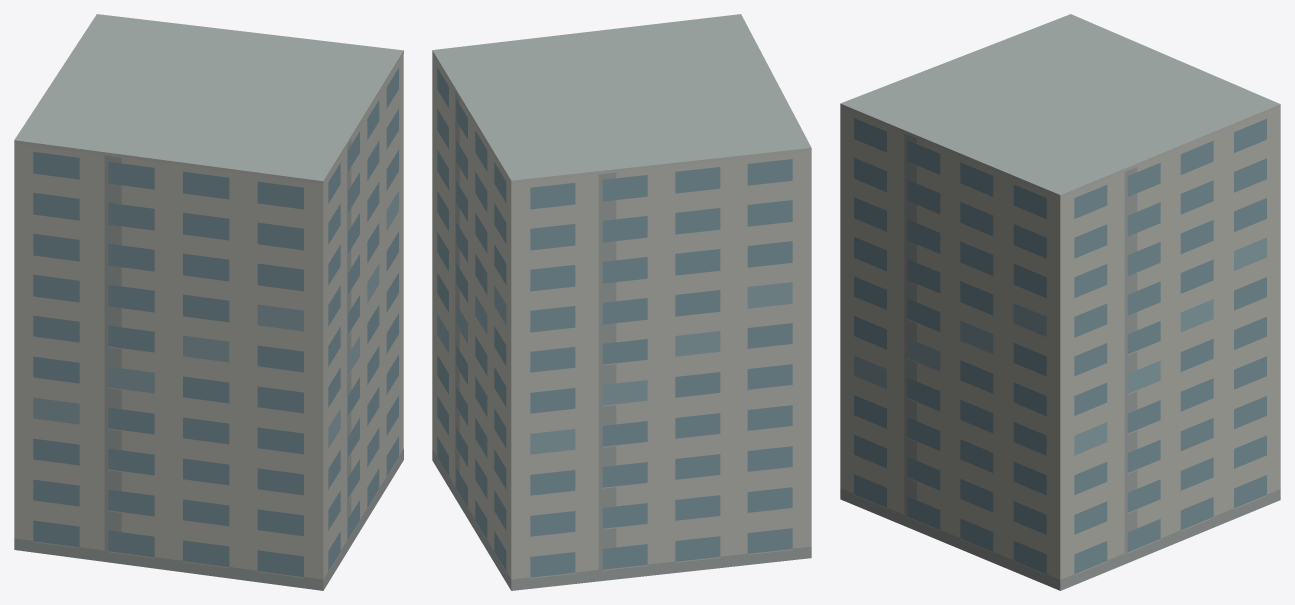
File: residential-4fcf3f14-ef25-4509-aacf-021ac37ec991.glb
The picture shows the model from 3 angles, left to right: view 1: azimuth 30°, elevation 25°; view 2: azimuth 150°, elevation 25°; view 3: azimuth 270°, elevation 25°; orthographic projection. The views are drawn at different scales.
Parts seen in each view (by area): view 1: residential-4fcf3f14-ef25-4509-aacf-021ac37ec991.tmp; view 2: residential-4fcf3f14-ef25-4509-aacf-021ac37ec991.tmp; view 3: residential-4fcf3f14-ef25-4509-aacf-021ac37ec991.tmp.
Part boxes in pixels (left/top/right/bottom): residential-4fcf3f14-ef25-4509-aacf-021ac37ec991.tmp: left=14, top=14, right=403, bottom=590; residential-4fcf3f14-ef25-4509-aacf-021ac37ec991.tmp: left=432, top=14, right=811, bottom=590; residential-4fcf3f14-ef25-4509-aacf-021ac37ec991.tmp: left=840, top=14, right=1280, bottom=590.
Bounding box in the file's own units: 29.45 × 30 × 30.27.
